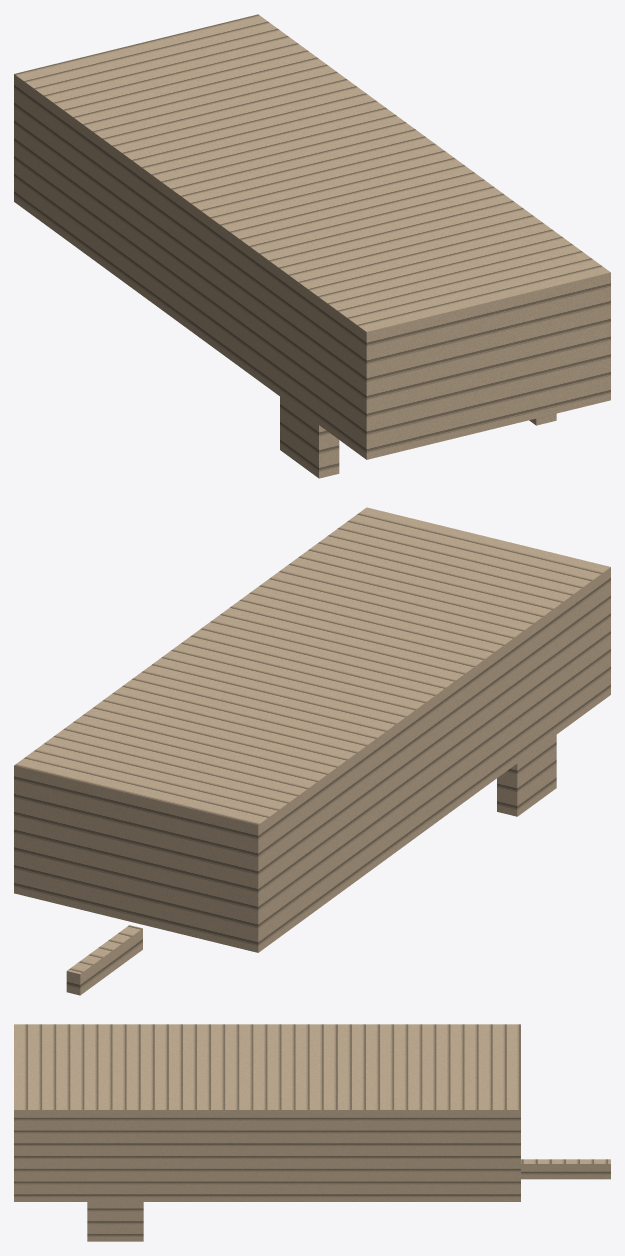
Rendered from boat_camper_atv_trailer.glb.
3 renders of one model, top to bottom at view 1: azimuth 30°, elevation 25°; view 2: azimuth 150°, elevation 25°; view 3: azimuth 270°, elevation 25°, orthographic. The views are drawn at different scales.
Visible parts, largest first — view 1: boat_camper_atv_trailer-col; view 2: boat_camper_atv_trailer-col; view 3: boat_camper_atv_trailer-col.
Boxes of the visible parts, box(x1,y1,x2,y2) form: boat_camper_atv_trailer-col: box(14, 14, 610, 478); boat_camper_atv_trailer-col: box(14, 507, 610, 995); boat_camper_atv_trailer-col: box(14, 1024, 610, 1241).
Bounding box in the file's own units: 1.8 × 1.3 × 5.3.
1 material, 1 textured.
